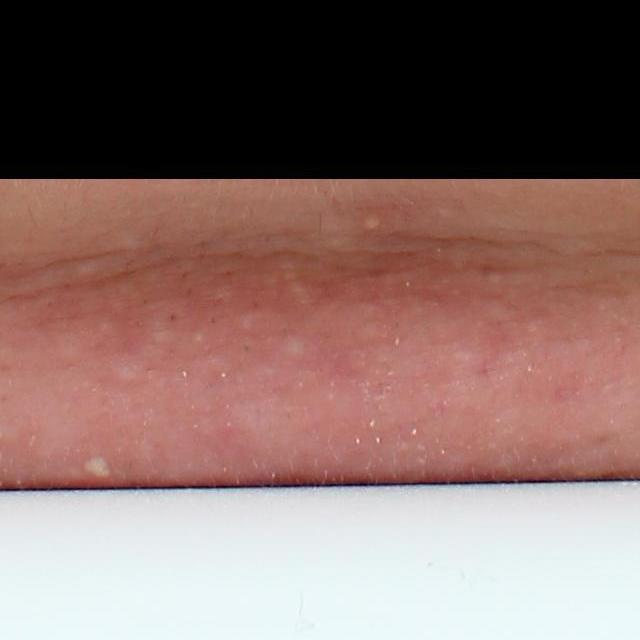pustule: (80, 453, 114, 482), (362, 216, 384, 233)
